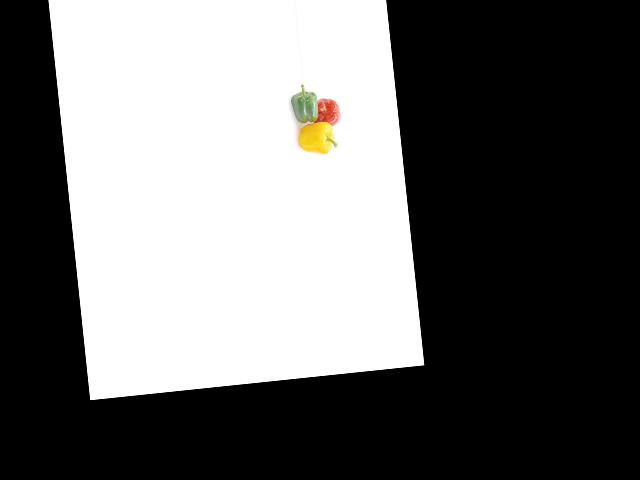bell_pepper: (289, 85, 323, 131)
